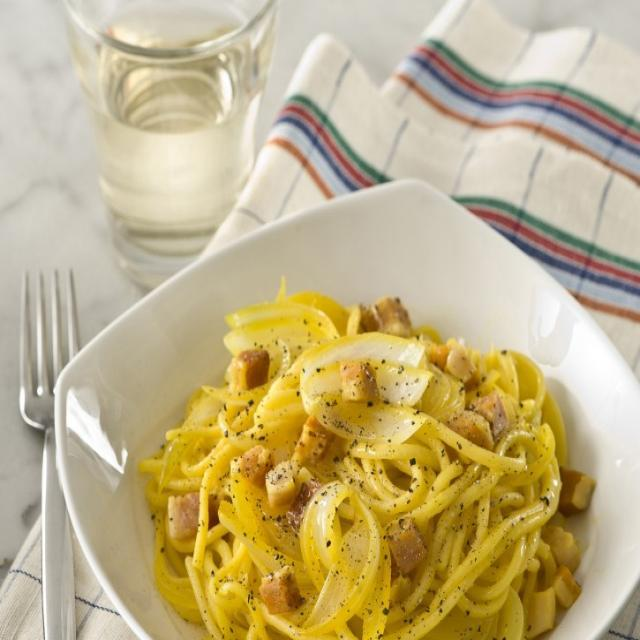Oil pasta: (153, 289, 625, 640)
